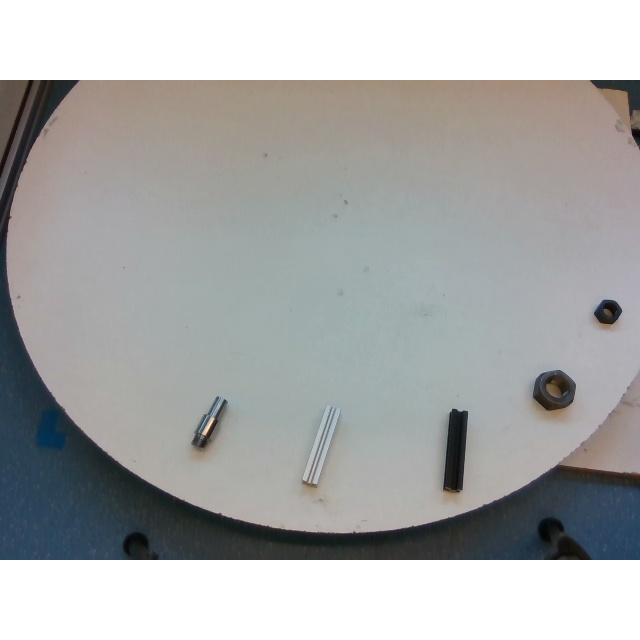Axis2: (192, 394, 228, 450)
F20_20_B: (442, 410, 470, 494)
F20_20_G: (302, 404, 338, 484)
M20: (593, 298, 623, 326)
M30: (534, 370, 574, 408)
